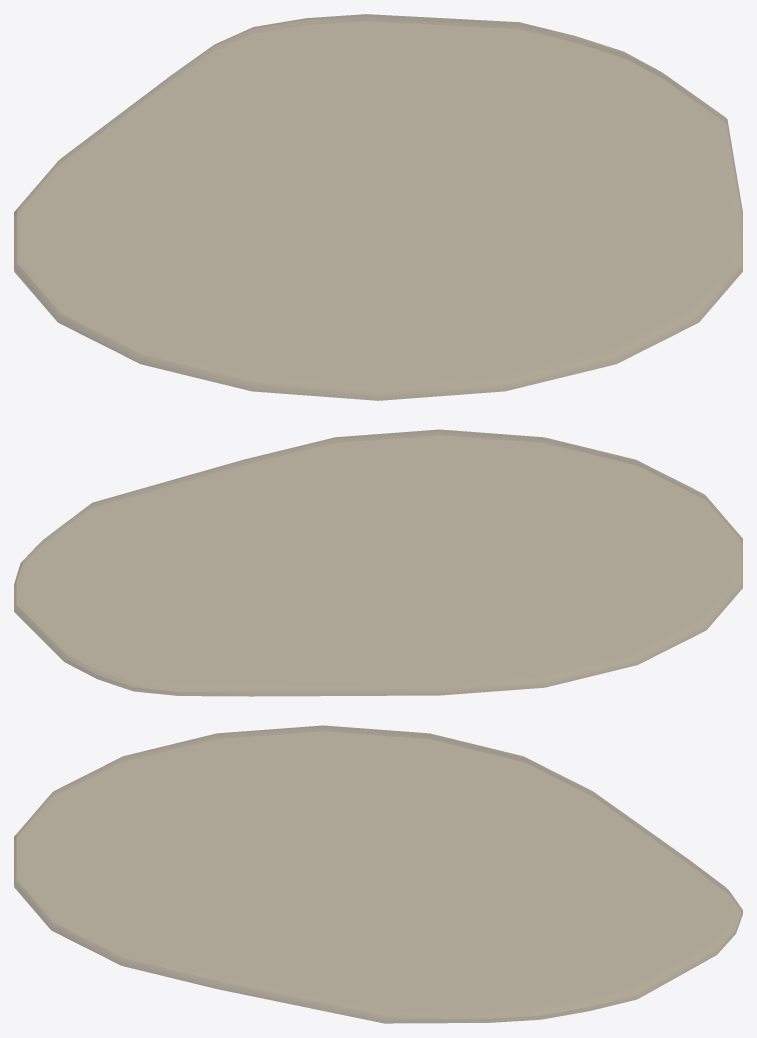
The model's file is oil.fbx.
3 views of the same model, one above another, from view 1: azimuth 30°, elevation 25°; view 2: azimuth 150°, elevation 25°; view 3: azimuth 270°, elevation 25° (orthographic). The views are drawn at different scales.
Parts seen in each view (by area): view 1: oil1; view 2: oil1; view 3: oil1.
Boxes of the visible parts, x1,y1,x2,y2 form: oil1: (14, 14, 742, 400); oil1: (14, 429, 742, 696); oil1: (14, 725, 742, 1023).
Size of the model in its own units: 2.2 by 0.0295 by 2.32.
